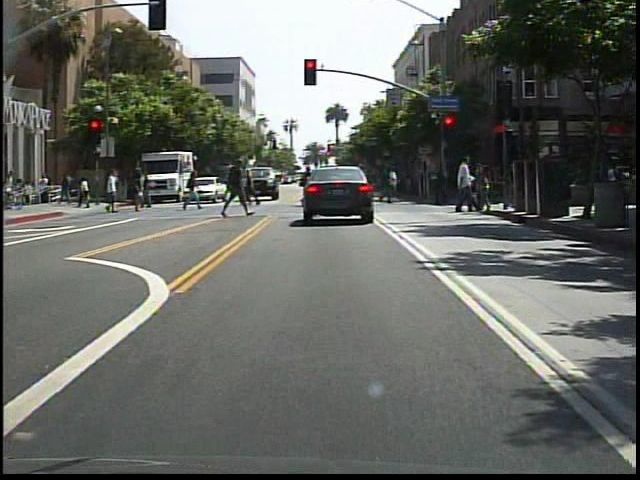person: (222, 155, 252, 224), (450, 153, 482, 214), (356, 165, 379, 219), (102, 169, 125, 215), (183, 168, 205, 213), (131, 170, 145, 215), (244, 168, 260, 207), (142, 172, 157, 213)
